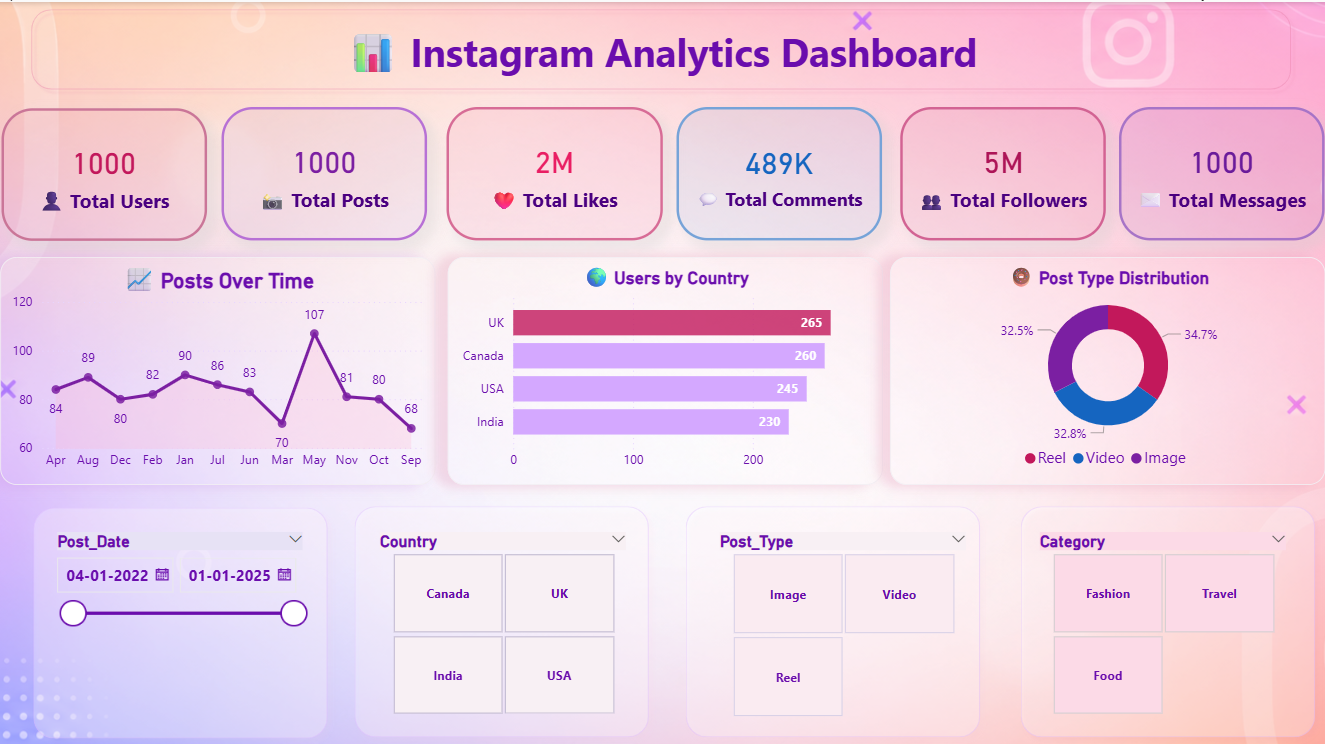

Layout of this report page (visuals, bound fields, positions):
{"tool":"powerbi","page":{"name":" OVERVIEW","canvas":[1280,720],"ordinal":0},"visuals":[{"type":"card","fields":{"Values":["Likes.Total Likes"]},"box":[431.4,101.4,208.6,128.6],"z":0},{"type":"card","fields":{"Values":["Posts.Total Posts"]},"box":[214.3,101.4,198.6,128.6],"z":1000},{"type":"card","fields":{"Values":["Comments.Total Comments"]},"box":[654.3,101.4,198.6,128.6],"z":2000},{"type":"card","fields":{"Values":["Followers.Total Followers"]},"box":[870,101.4,198.6,128.6],"z":3000},{"type":"card","fields":{"Values":["Messages.Total Messages"]},"box":[1081.4,101.4,198.6,128.6],"z":4000},{"type":"lineChart","title":"📈 Posts Over Time","fields":{"Y":["Posts.Total Posts"],"Category":["DateTable.Month","DateTable.Year"]},"box":[1.4,245.7,420,220],"z":5000},{"type":"clusteredBarChart","title":"🌍 Users by Country","fields":{"Category":["Users.Country"],"Y":["Users.Total Users"]},"box":[432.9,245.7,420,220],"z":6000},{"type":"donutChart","title":"🍩 Post Type Distribution","fields":{"Category":["Posts.Post_Type"],"Y":["Posts.Total Posts"]},"box":[860,245.7,420,220],"z":7000},{"type":"group","id":"g1","title":"Group 1","box":[23.8,477.5,1256.2,242.5],"z":8000},{"type":"shape","box":[24.3,0,1230,91.4],"z":9000},{"type":"textbox","box":[128,0,1024,192],"z":10000},{"type":"shape","box":[23.8,478.6,302,241],"z":10000,"group":"g1"},{"type":"shape","box":[334,477.5,302,241],"z":11000,"group":"g1"},{"type":"slicer","fields":{"Values":["Posts.Post_Date"]},"box":[43.8,506.2,262.5,190],"z":11000},{"type":"shape","box":[653.5,477.5,302,241],"z":12000,"group":"g1"},{"type":"slicer","fields":{"Values":["Users.Country"]},"box":[354.7,506.7,263,187],"z":12000},{"type":"shape","box":[977.4,477.5,302,241],"z":13000,"group":"g1"},{"type":"slicer","fields":{"Values":["Posts.Post_Type"]},"box":[682.8,506.7,263,189.4],"z":13000},{"type":"slicer","fields":{"Values":["Hashtags.Category"]},"box":[991.7,506.7,263,187],"z":14000},{"type":"card","fields":{"Values":["Users.Total Users"]},"box":[2,102,198,128],"z":15000}]}

Visuals, with their boxes in screenshot pixels (x1, y1, x2, y2), scaled from the page's 1280x720 canvas onto the 1325x744 screenshot:
card - Likes.Total Likes: bbox(447, 105, 662, 238)
card - Posts.Total Posts: bbox(222, 105, 427, 238)
card - Comments.Total Comments: bbox(677, 105, 883, 238)
card - Followers.Total Followers: bbox(901, 105, 1106, 238)
card - Messages.Total Messages: bbox(1119, 105, 1324, 238)
"📈 Posts Over Time" lineChart: bbox(1, 254, 436, 481)
"🌍 Users by Country" clusteredBarChart: bbox(448, 254, 883, 481)
"🍩 Post Type Distribution" donutChart: bbox(890, 254, 1324, 481)
"Group 1" group: bbox(25, 493, 1324, 743)
shape: bbox(25, 0, 1298, 94)
textbox: bbox(132, 0, 1192, 198)
shape: bbox(25, 495, 337, 743)
shape: bbox(346, 493, 658, 742)
slicer - Posts.Post_Date: bbox(45, 523, 317, 719)
shape: bbox(676, 493, 989, 742)
slicer - Users.Country: bbox(367, 524, 639, 717)
shape: bbox(1012, 493, 1324, 742)
slicer - Posts.Post_Type: bbox(707, 524, 979, 719)
slicer - Hashtags.Category: bbox(1027, 524, 1299, 717)
card - Users.Total Users: bbox(2, 105, 207, 238)
